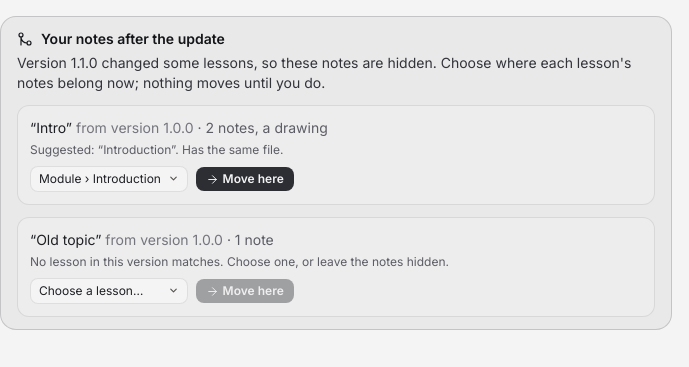
Test: annotation moves › shows a failed move
Click the button "Move here" below "“Intro”": (245, 179) [196,167,294,191]
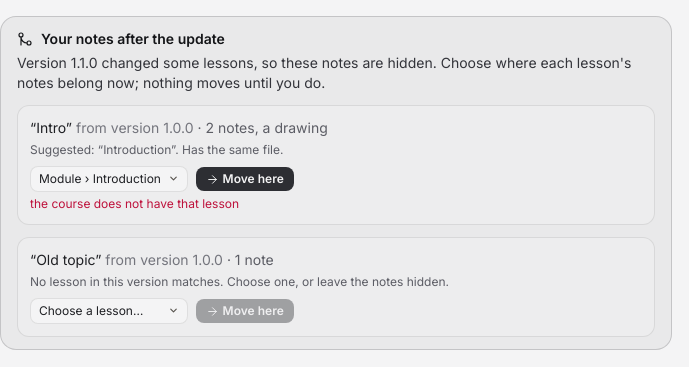
Expected: the message shows "does not have that lesson", [30,196,239,211]
